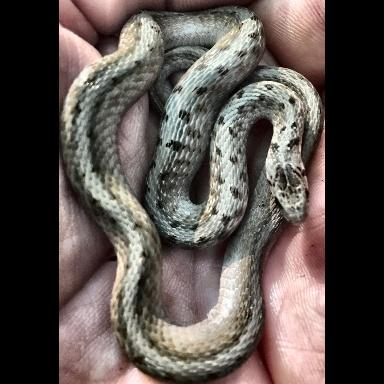snake: (63, 10, 324, 384)
